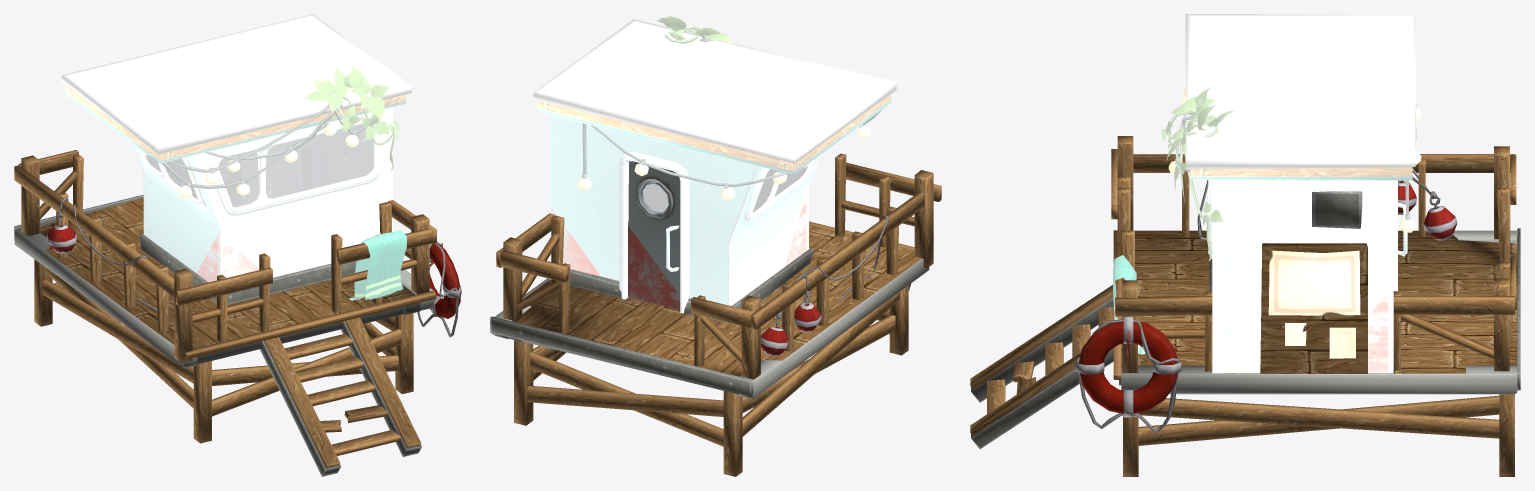
File: lifeguard-tower.lod0.glb
The picture shows the model from 3 angles, left to right: view 1: azimuth 30°, elevation 25°; view 2: azimuth 150°, elevation 25°; view 3: azimuth 270°, elevation 25°; orthographic projection. The views are drawn at different scales.
Parts seen in each view (by area): view 1: Object_2, Object_3; view 2: Object_3, Object_2; view 3: Object_3, Object_2.
Boxes of the visible parts, <box> form: Object_2: <box>61,14,411,300</box>; Object_3: <box>14,150,461,476</box>; Object_3: <box>490,153,941,476</box>; Object_2: <box>533,15,896,313</box>; Object_3: <box>970,136,1520,476</box>; Object_2: <box>1113,14,1421,373</box>.
Bounding box in the file's own units: 4.35 × 4.6 × 6.29.
2 materials, 2 textured.
